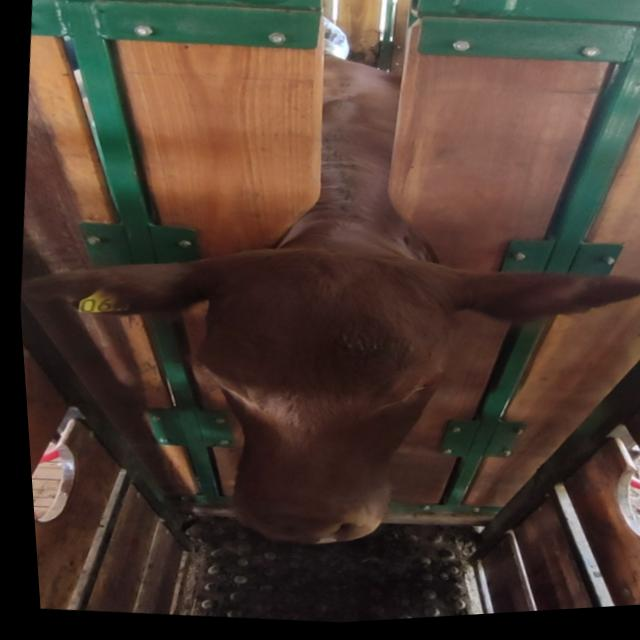cowFace: (172, 237, 465, 563)
